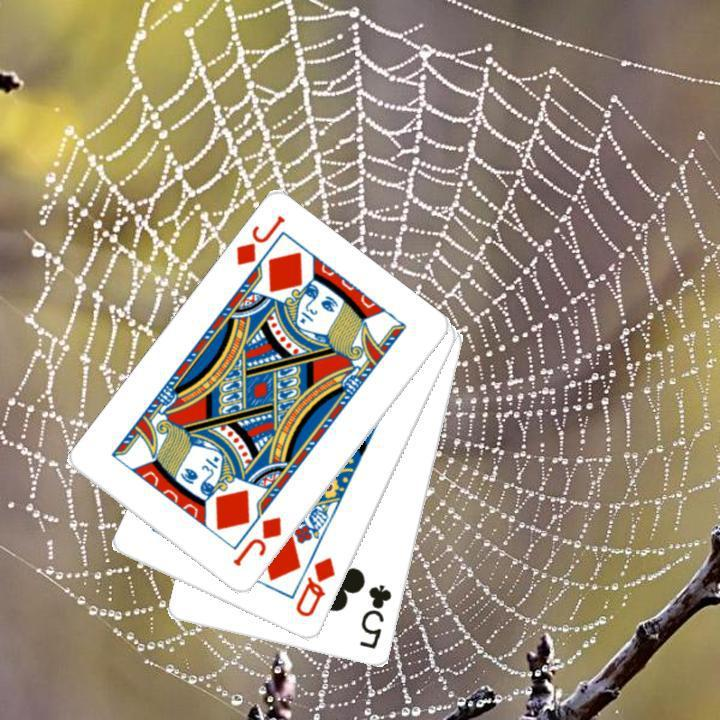5: (355, 581, 394, 652)
J: (231, 211, 288, 268), (228, 513, 284, 569)
Q: (291, 553, 338, 620)
